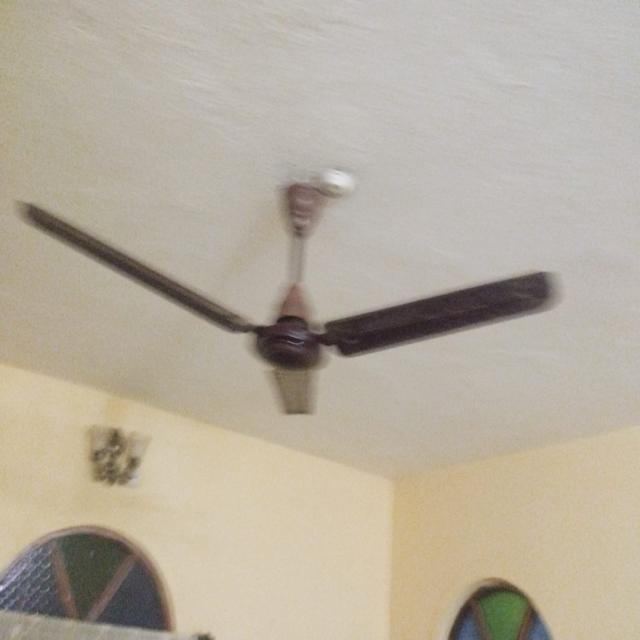fan_off: (23, 181, 553, 417)
